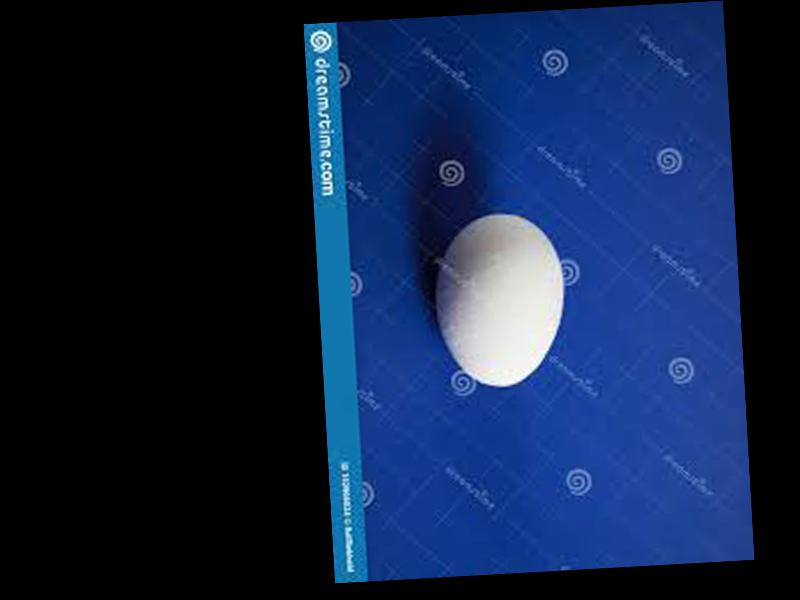Eggs: (430, 209, 567, 390)
